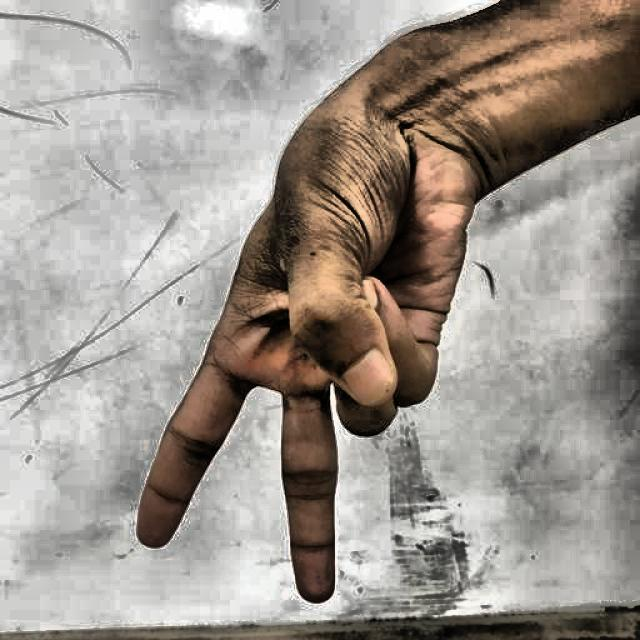Pa: (113, 63, 495, 619)
